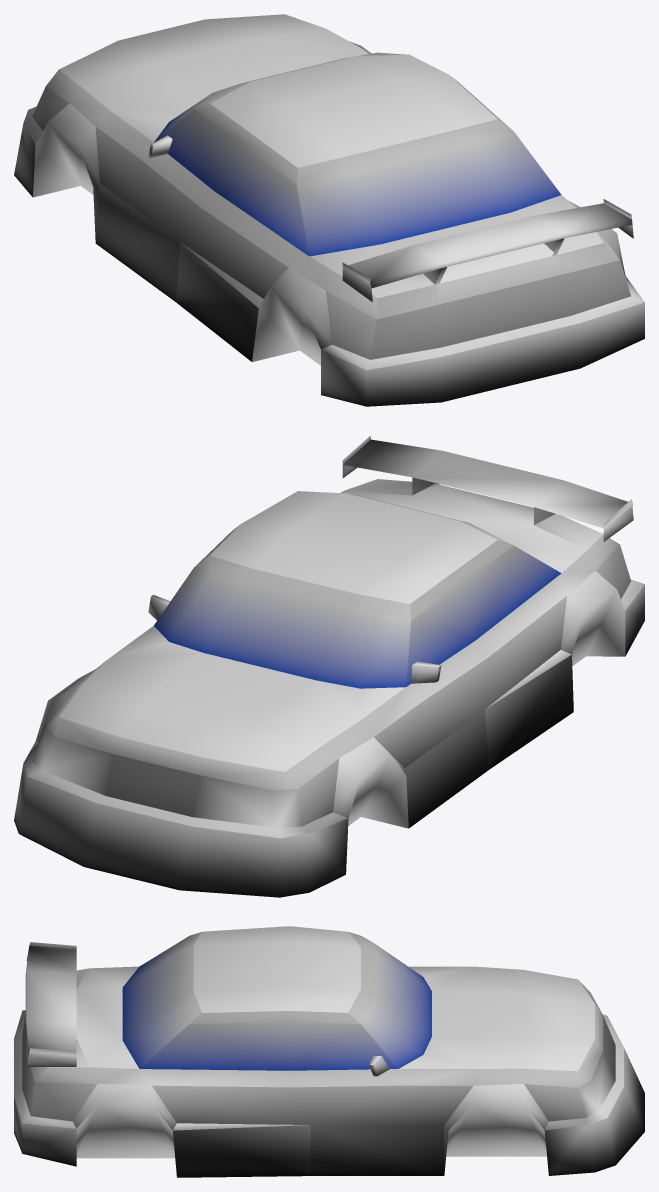
Rendered from Volken TurboModel.fbx.
3 renders of one model, top to bottom at view 1: azimuth 30°, elevation 25°; view 2: azimuth 150°, elevation 25°; view 3: azimuth 270°, elevation 25°, orthographic. The views are drawn at different scales.
Visible parts, largest first — view 1: body.prm; view 2: body.prm; view 3: body.prm.
Boxes of the visible parts, left/top/right/bottom form: body.prm: left=14, top=14, right=644, bottom=406; body.prm: left=14, top=435, right=644, bottom=897; body.prm: left=14, top=926, right=644, bottom=1177.
Size of the model in its own units: 66.6 by 35.1 by 136.
